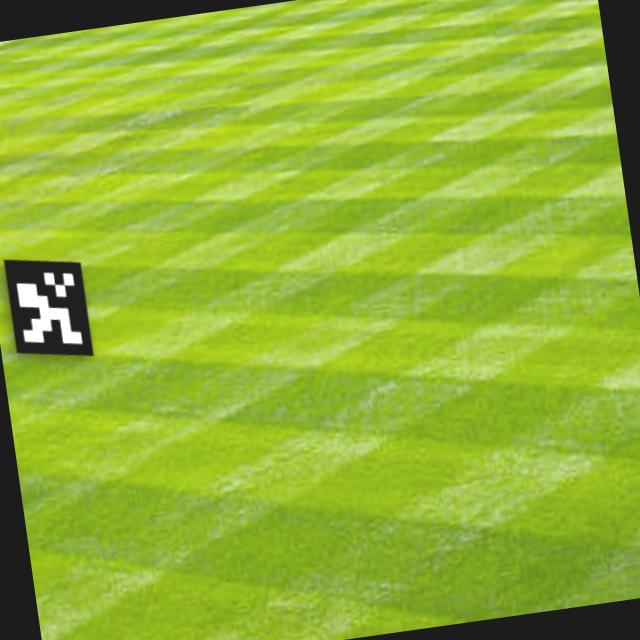marker: (0, 237, 101, 374)
